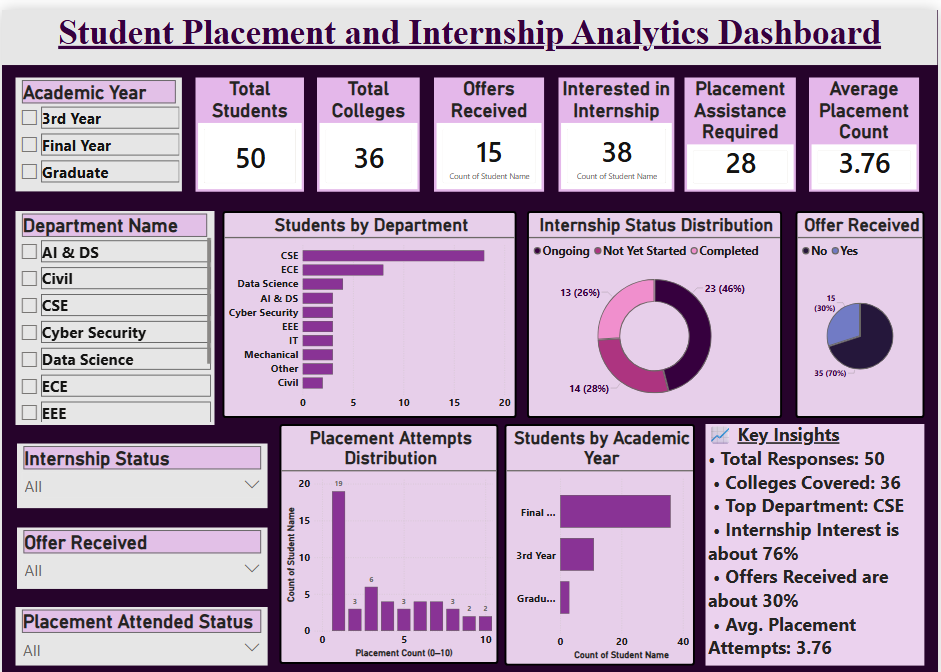

This screenshot's page, from the dashboard's own definition file:
{"tool":"powerbi","page":{"name":"Dashboard","canvas":[1949,1400],"ordinal":0},"visuals":[{"type":"textbox","box":[0,0,1948.5,114.4],"z":0},{"type":"cardVisual","title":"Total Students","fields":{"Data":["CountNonNull(Final_Dataset.Student Name)"]},"box":[404.1,141.7,226.2,238.2],"z":1000},{"type":"cardVisual","title":"Total Colleges","fields":{"Data":["Count(Final_Dataset.College Name)"]},"box":[657.4,141.7,214.1,238.2],"z":2000},{"type":"cardVisual","title":"Offers Received","fields":{"Data":["CountNonNull(Final_Dataset.Student Name)"]},"box":[898.6,141.7,229.2,238.2],"z":3000},{"type":"cardVisual","title":"Interested in Internship","fields":{"Data":["CountNonNull(Final_Dataset.Student Name)"]},"box":[1157.9,141.7,241.2,238.2],"z":4000},{"type":"cardVisual","title":"Placement Assistance Required","fields":{"Data":["CountNonNull(Final_Dataset.Student Name)"]},"box":[1423.3,141.7,232.2,238.2],"z":5000},{"type":"cardVisual","title":"Average Placement Count","fields":{"Data":["Avg(Final_Dataset.Placement Count (0–10))"]},"box":[1682.6,141.7,229.2,238.2],"z":6000},{"type":"slicer","fields":{"Values":["Final_Dataset.Academic Year"]},"box":[28.1,140.6,346.9,237.5],"z":7000},{"type":"slicer","fields":{"Values":["Final_Dataset.Internship Status"]},"box":[31.2,903.1,521.9,134.4],"z":8000},{"type":"slicer","fields":{"Values":["Final_Dataset.Offer Received"]},"box":[31.2,1078.1,521.9,128.1],"z":9000},{"type":"slicer","fields":{"Values":["Final_Dataset.Placement Attended Status"]},"box":[28.1,1243.8,525,121.9],"z":10000},{"type":"slicer","fields":{"Values":["Final_Dataset.Department Name"]},"box":[28.1,418.8,412.5,443.8],"z":11000},{"type":"clusteredBarChart","title":"Students by Department","fields":{"Category":["Final_Dataset.Department Name"],"Y":["CountNonNull(Final_Dataset.Student Name)"]},"box":[459.4,418.8,612.5,431.2],"z":12000},{"type":"donutChart","title":"Internship Status Distribution","fields":{"Category":["Final_Dataset.Internship Status"],"Y":["CountNonNull(Final_Dataset.Student Name)"]},"box":[1093.8,418.8,531.2,431.2],"z":13000},{"type":"pieChart","title":"Offer Received","fields":{"Category":["Final_Dataset.Offer Received"],"Y":["CountNonNull(Final_Dataset.Student Name)"]},"box":[1653.1,418.8,268.8,431.2],"z":14000},{"type":"clusteredBarChart","title":"Students by Academic Year","fields":{"Category":["Final_Dataset.Academic Year"],"Y":["CountNonNull(Final_Dataset.Student Name)"]},"box":[1046.9,862.5,396.9,503.1],"z":15000},{"type":"clusteredColumnChart","title":"Placement Attempts Distribution","fields":{"Category":["Final_Dataset.Placement Count (0–10)"],"Y":["CountNonNull(Final_Dataset.Student Name)"]},"box":[578.1,862.5,456.2,500],"z":16000},{"type":"textbox","box":[1465.6,862.5,456.2,503.1],"z":16001}]}

Visuals, with their boxes in screenshot pixels (x1, y1, x2, y2), scaled from the page's 1949x1400 canvas onto the 941x672 screenshot:
textbox: (left=0, top=0, right=940, bottom=55)
"Total Students" cardVisual: (left=195, top=68, right=304, bottom=182)
"Total Colleges" cardVisual: (left=317, top=68, right=421, bottom=182)
"Offers Received" cardVisual: (left=434, top=68, right=545, bottom=182)
"Interested in Internship" cardVisual: (left=559, top=68, right=676, bottom=182)
"Placement Assistance Required" cardVisual: (left=687, top=68, right=799, bottom=182)
"Average Placement Count" cardVisual: (left=812, top=68, right=923, bottom=182)
slicer - Final_Dataset.Academic Year: (left=14, top=67, right=181, bottom=181)
slicer - Final_Dataset.Internship Status: (left=15, top=433, right=267, bottom=498)
slicer - Final_Dataset.Offer Received: (left=15, top=517, right=267, bottom=579)
slicer - Final_Dataset.Placement Attended Status: (left=14, top=597, right=267, bottom=656)
slicer - Final_Dataset.Department Name: (left=14, top=201, right=213, bottom=414)
"Students by Department" clusteredBarChart: (left=222, top=201, right=518, bottom=408)
"Internship Status Distribution" donutChart: (left=528, top=201, right=785, bottom=408)
"Offer Received" pieChart: (left=798, top=201, right=928, bottom=408)
"Students by Academic Year" clusteredBarChart: (left=505, top=414, right=697, bottom=655)
"Placement Attempts Distribution" clusteredColumnChart: (left=279, top=414, right=499, bottom=654)
textbox: (left=708, top=414, right=928, bottom=655)
